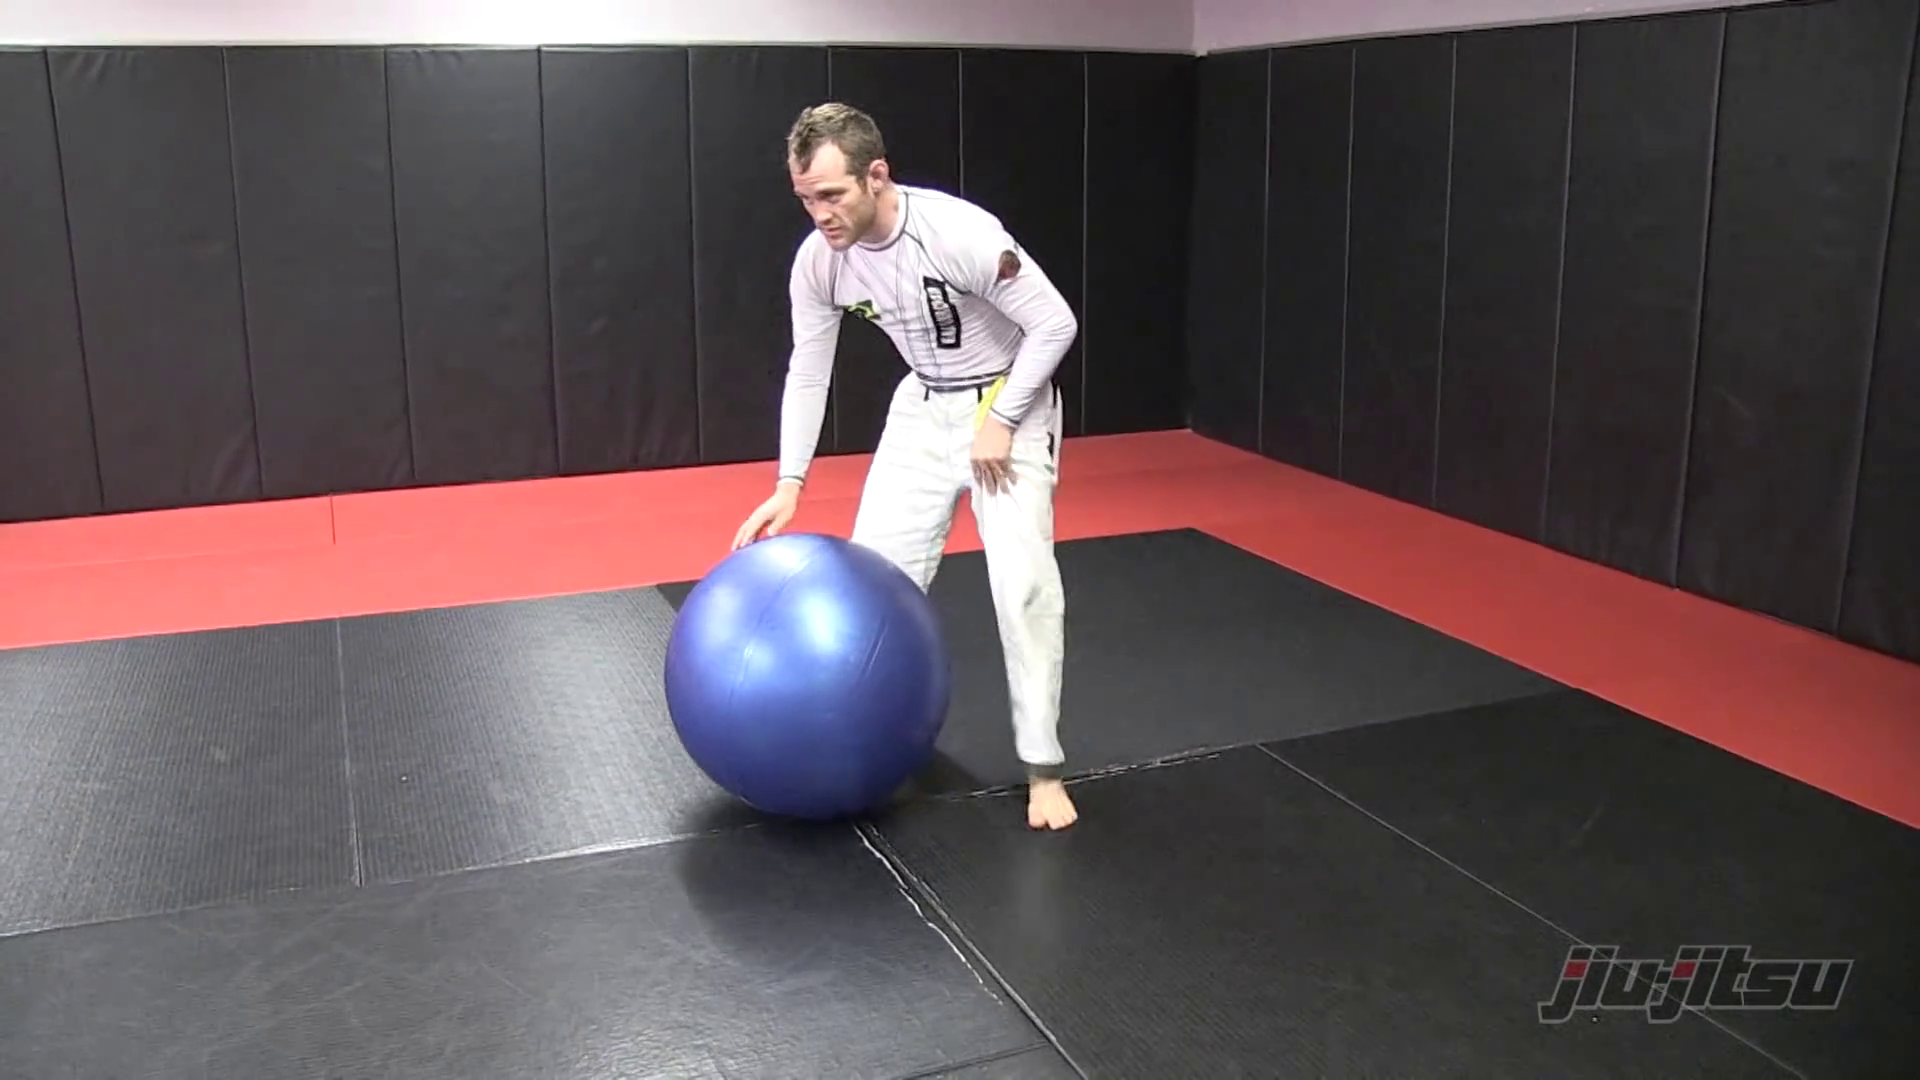yogaball: (662, 524, 957, 832)
